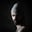face: (6, 1, 28, 26)
